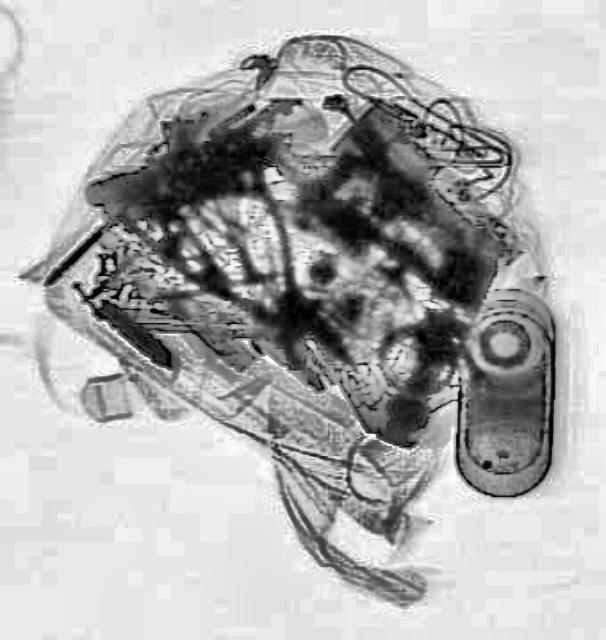Pliers: (110, 130, 380, 412)
